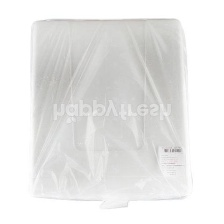foam_box: (25, 15, 191, 215)
